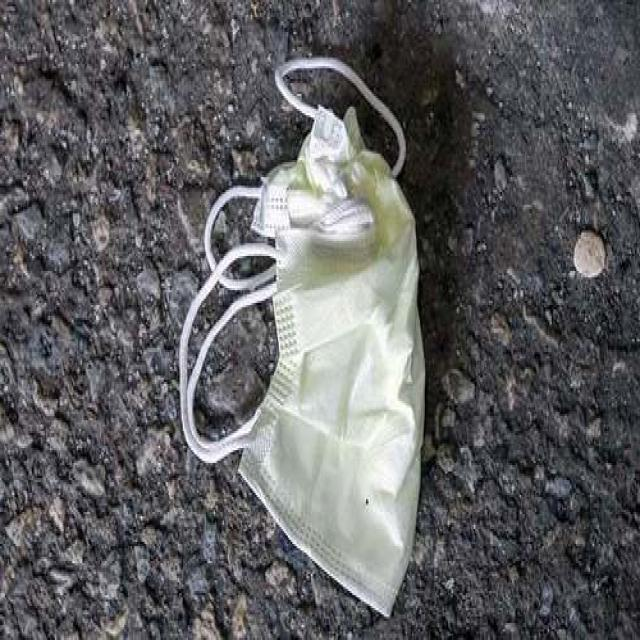face mask: (172, 55, 432, 604)
